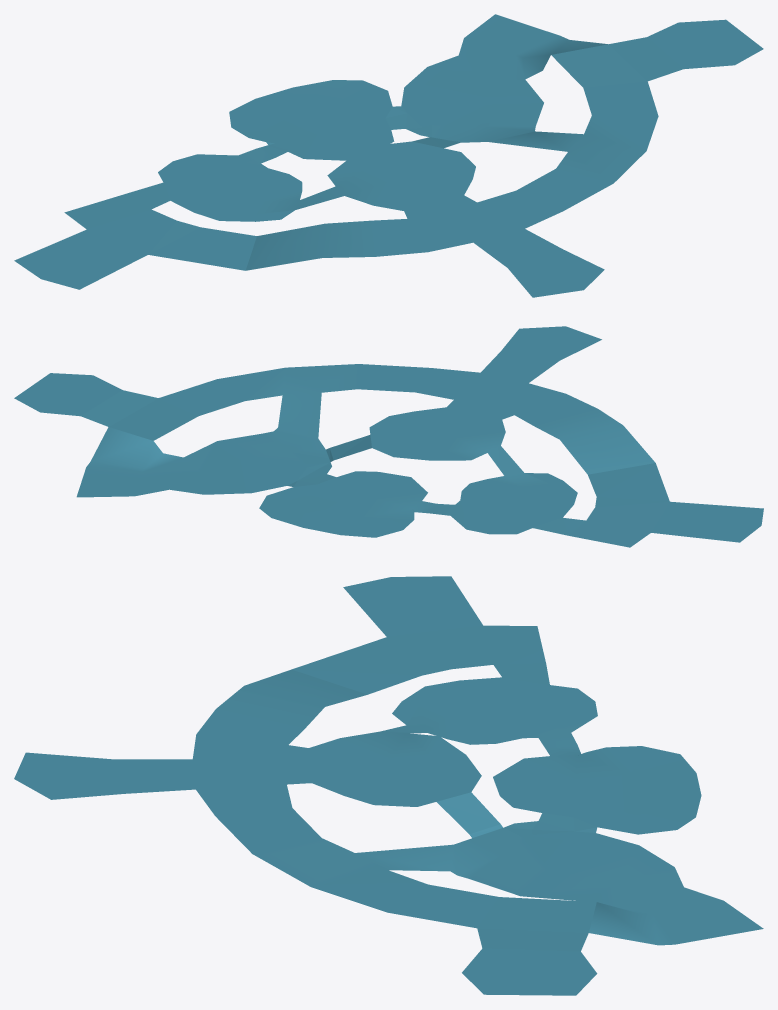
File: ziyuanpingtaipengzhuang.FBX
3 views of the same model, one above another, from view 1: azimuth 30°, elevation 25°; view 2: azimuth 150°, elevation 25°; view 3: azimuth 270°, elevation 25° (orthographic). The views are drawn at different scales.
Parts seen in each view (by area): view 1: pingtai01; view 2: pingtai01; view 3: pingtai01.
Boxes of the visible parts, x1=… form: pingtai01: x1=14, y1=14, x2=763, y2=297; pingtai01: x1=14, y1=326, x2=763, y2=547; pingtai01: x1=14, y1=576, x2=763, y2=995.
Bounding box in the file's own units: 14510 × 303 × 10520.
